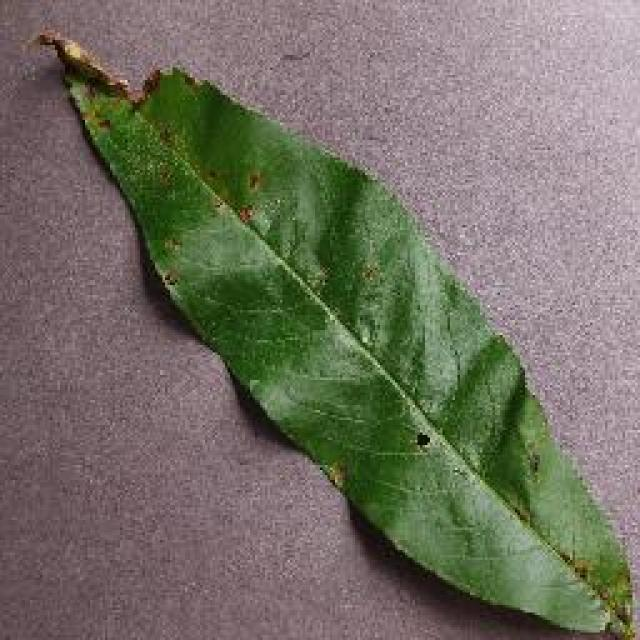Peach_Bacterial_Spot: (43, 35, 457, 445)
